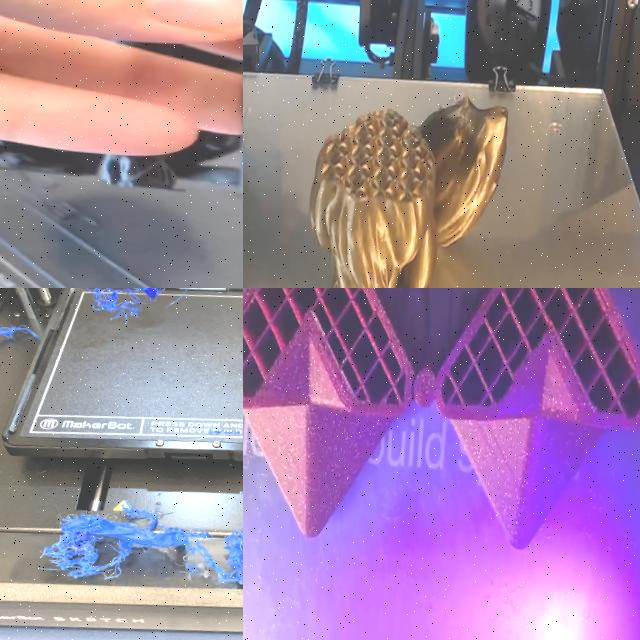spaghetti: (42, 502, 243, 588), (75, 288, 164, 321), (0, 325, 41, 349)
